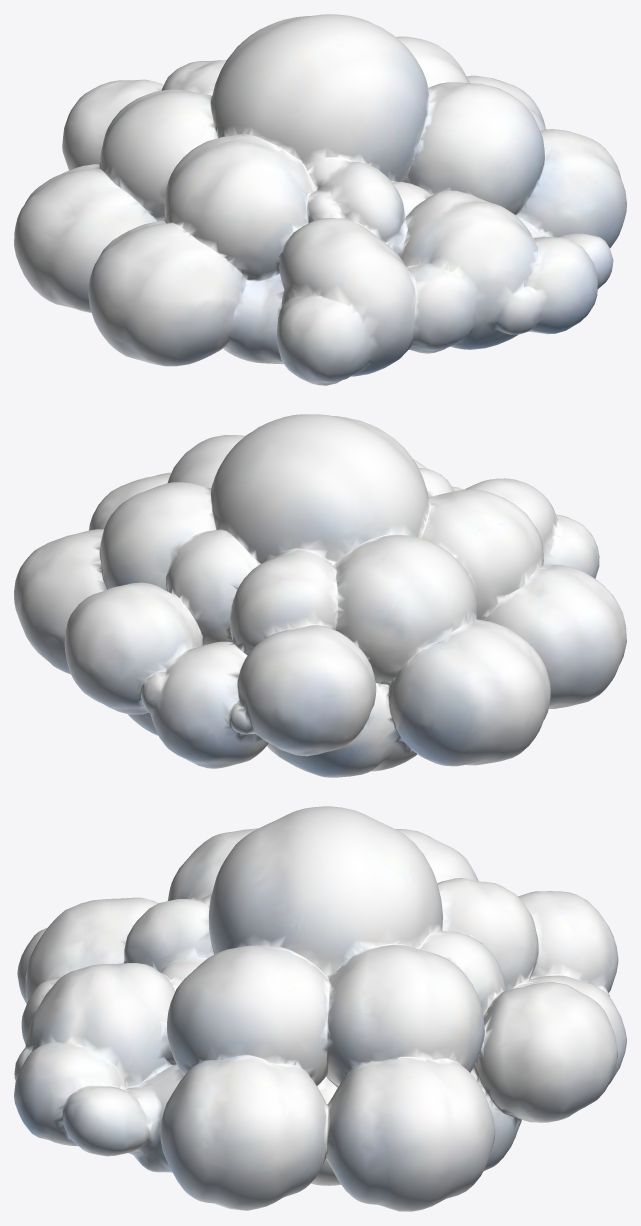
3 renders of one model, top to bottom at view 1: azimuth 30°, elevation 25°; view 2: azimuth 150°, elevation 25°; view 3: azimuth 270°, elevation 25°, orthographic. The views are drawn at different scales.
Size of the model in its own units: 1.9 by 1.02 by 1.8.
Materials: 1 (1 with a texture image).
